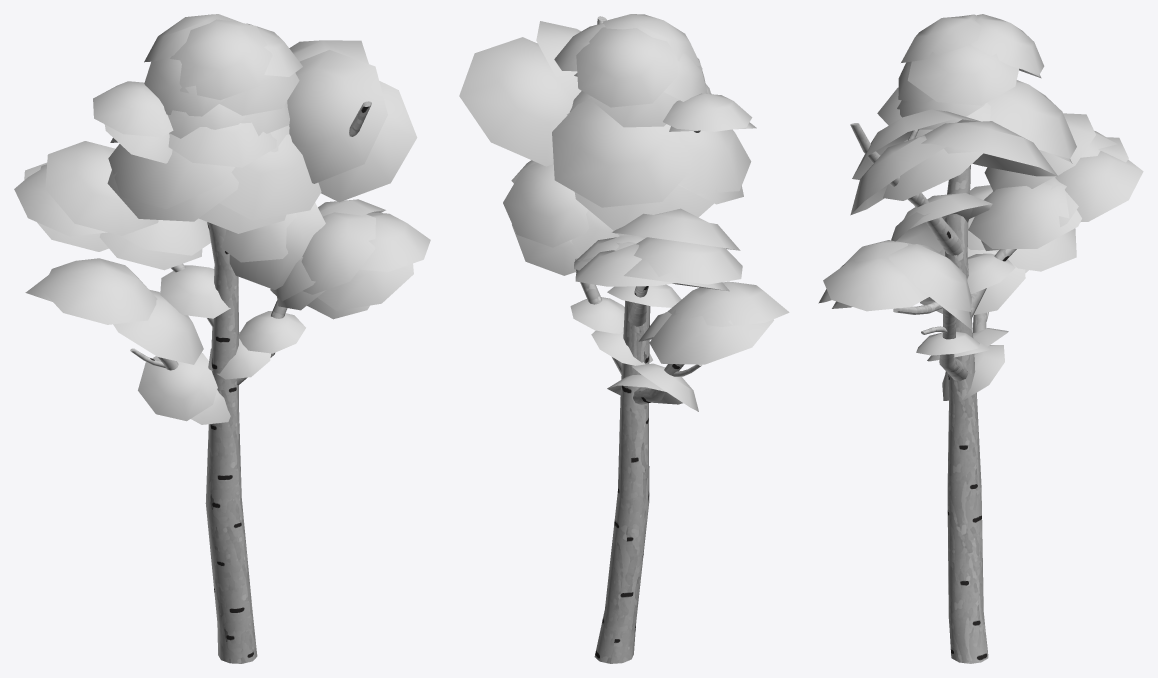
The model's file is Birch_1.glb.
3 views of the same model, side by side, from view 1: azimuth 30°, elevation 25°; view 2: azimuth 150°, elevation 25°; view 3: azimuth 270°, elevation 25° (orthographic). The views are drawn at different scales.
Parts seen in each view (by area): view 1: Birch_1; view 2: Birch_1; view 3: Birch_1.
Part boxes in pixels (x1=…): Birch_1: x1=14, y1=14, x2=430, y2=663; Birch_1: x1=459, y1=14, x2=789, y2=663; Birch_1: x1=818, y1=14, x2=1143, y2=663.
Size of the model in its own units: 4.89 by 9.48 by 4.46.
Materials: 2 (1 with a texture image).
